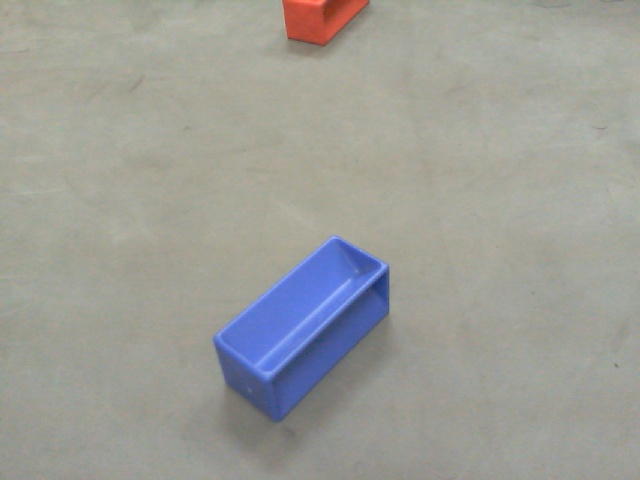BlueSample: (211, 232, 396, 421)
RedSample: (282, 1, 368, 48)
